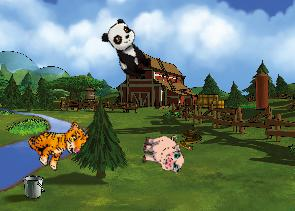panda: (97, 16, 158, 83)
pig: (140, 132, 185, 174)
tiger: (23, 107, 92, 177)
